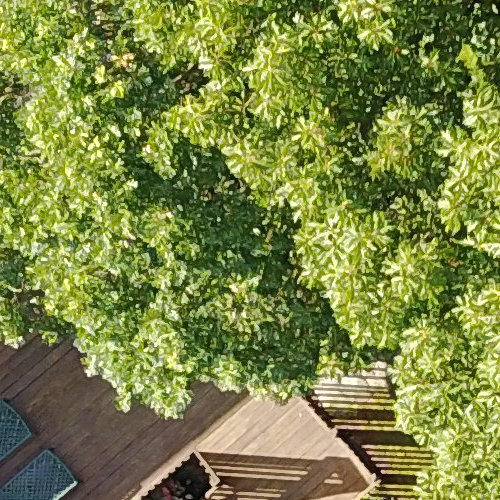porch: (1, 259, 460, 492)
